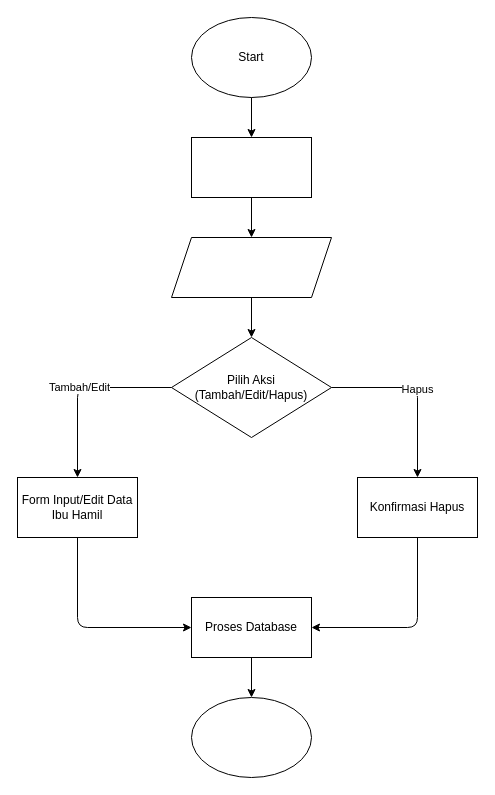
Image size: 495x795. Some labels were removed from this diagram. Here are the shapes that lost their labels. From the top down, the centre of each, then its label:
pixel 251 167: Pilih Menu Ibu Hamil
pixel 251 267: Tampilkan List Ibu Hamil
pixel 251 737: Stop
